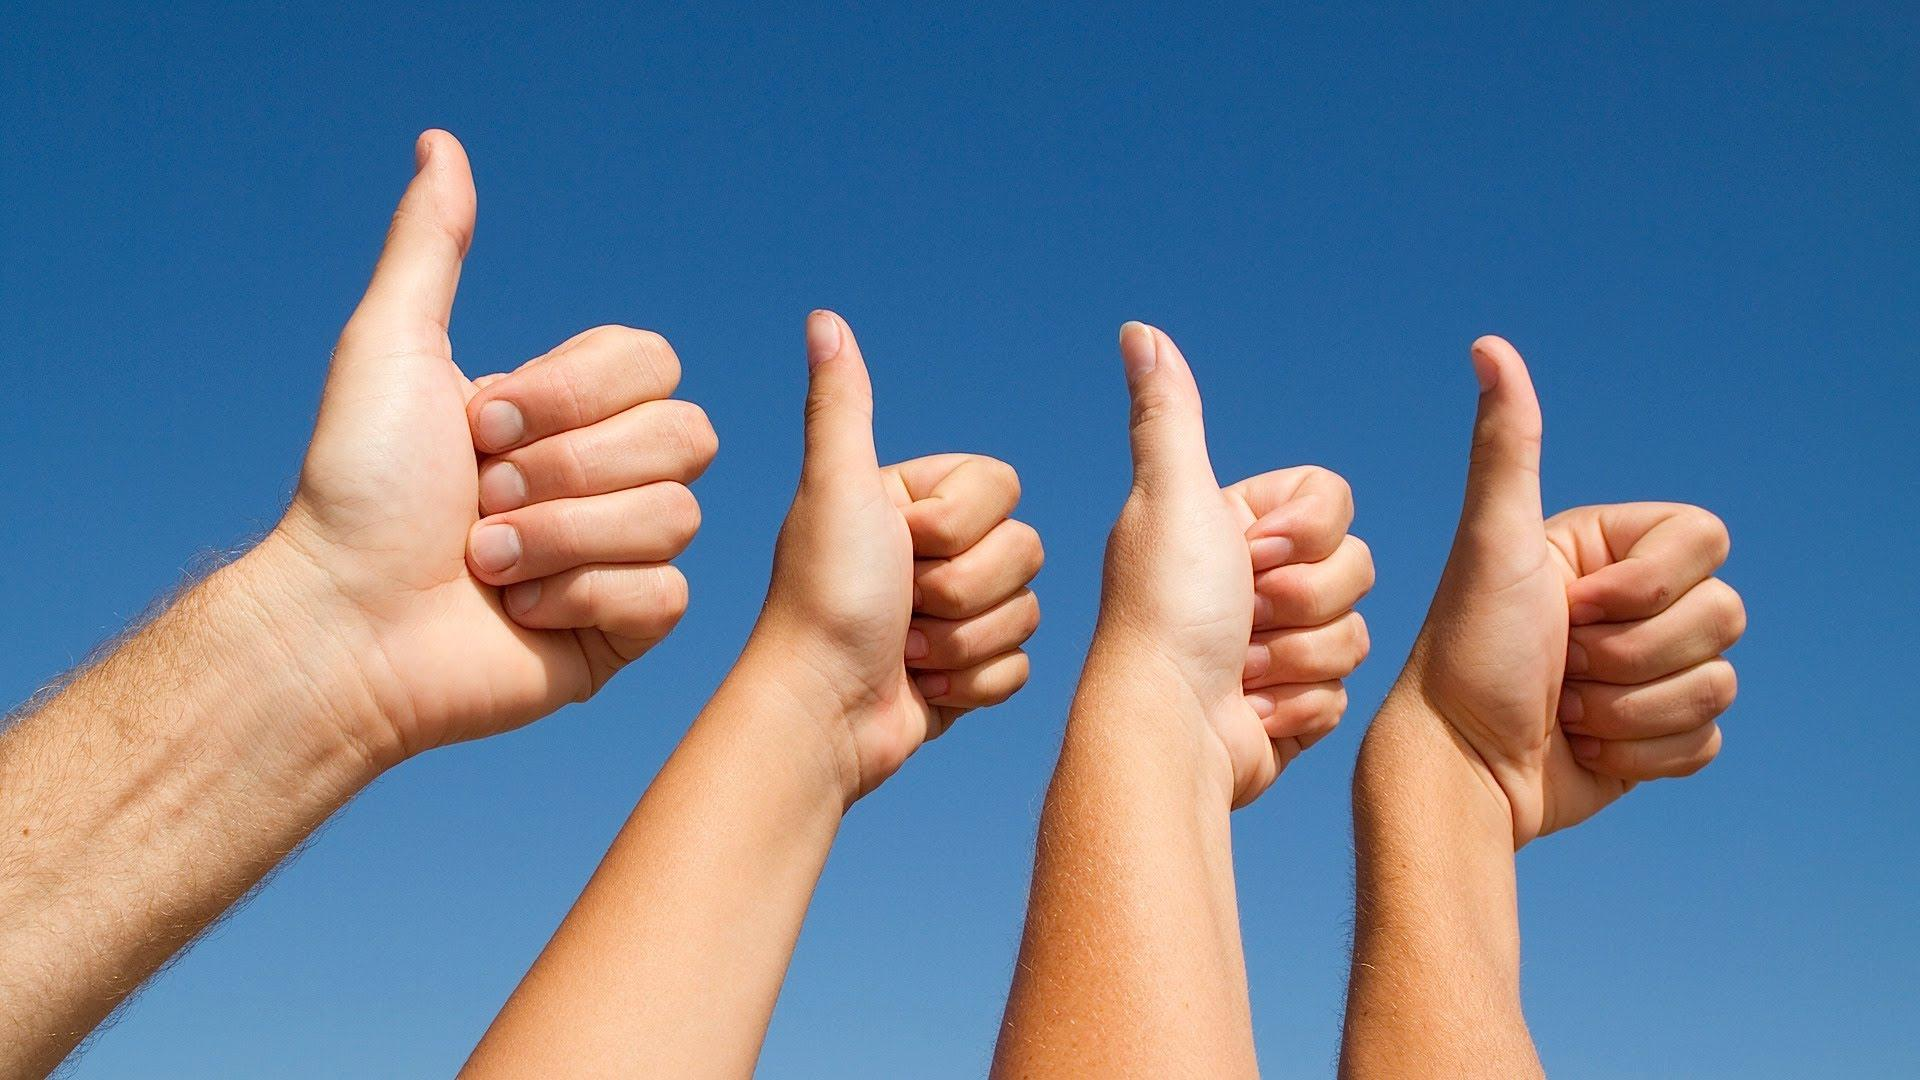thumbsup: (367, 127, 731, 737), (1456, 332, 1753, 840), (1105, 319, 1382, 793), (796, 303, 1046, 760)
